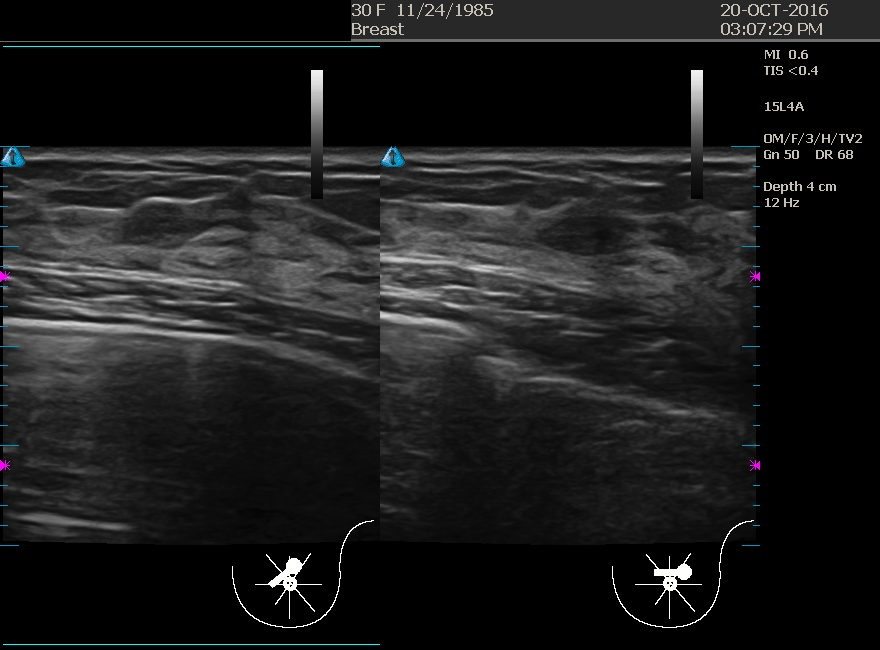BIRADS_2: (57, 163, 257, 363), (471, 162, 671, 362)
